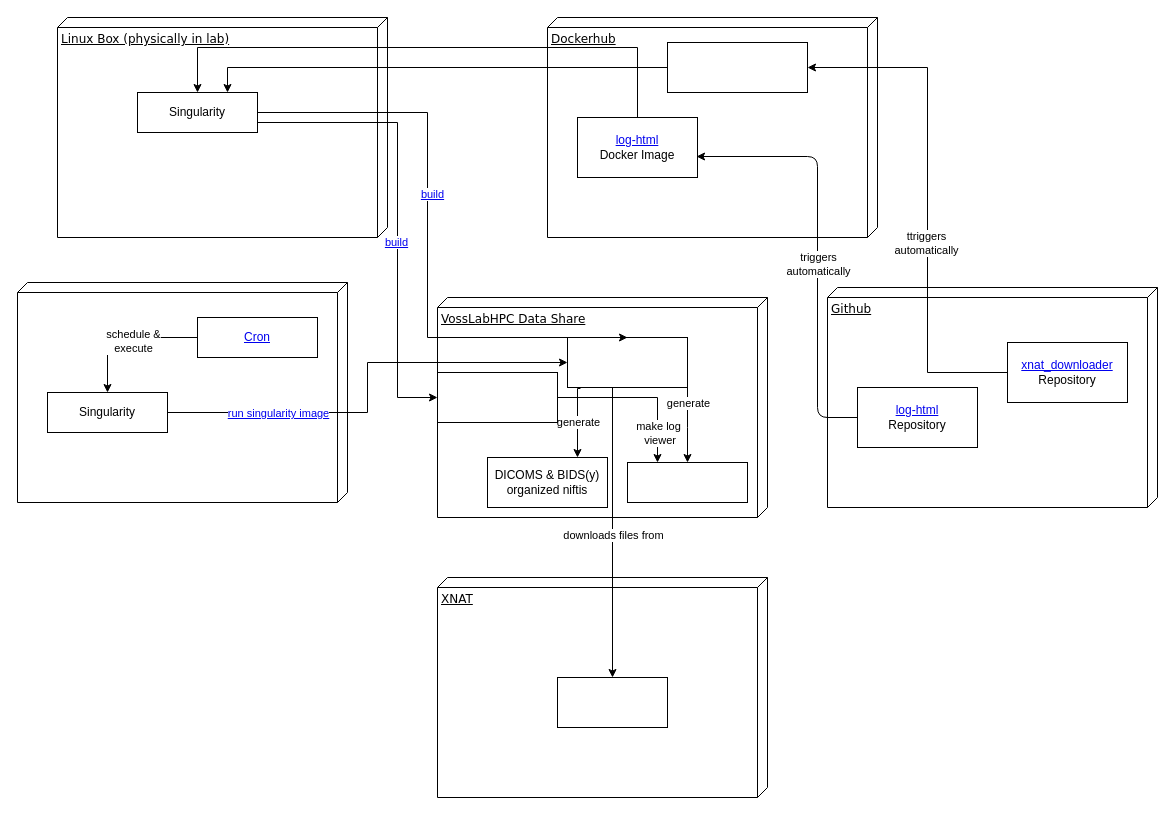
Image size: 1175x815. Some labels were removed from this diagram. The box of each missing label's shape, as (x1, y1, x2, y2) in pixels:
jdkent/xnat_downloader Docker Image: (666, 42, 808, 92)
Linux Server (located off-site): (16, 282, 348, 502)
Log Files: (626, 462, 748, 502)
log-html singularity image: (436, 372, 558, 422)
Project ( xnat login page ): (556, 676, 668, 728)
xnat_downloader singularity image: (566, 336, 688, 388)
